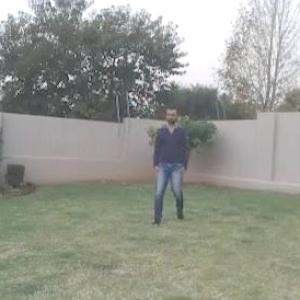follow: (151, 102, 187, 225)
